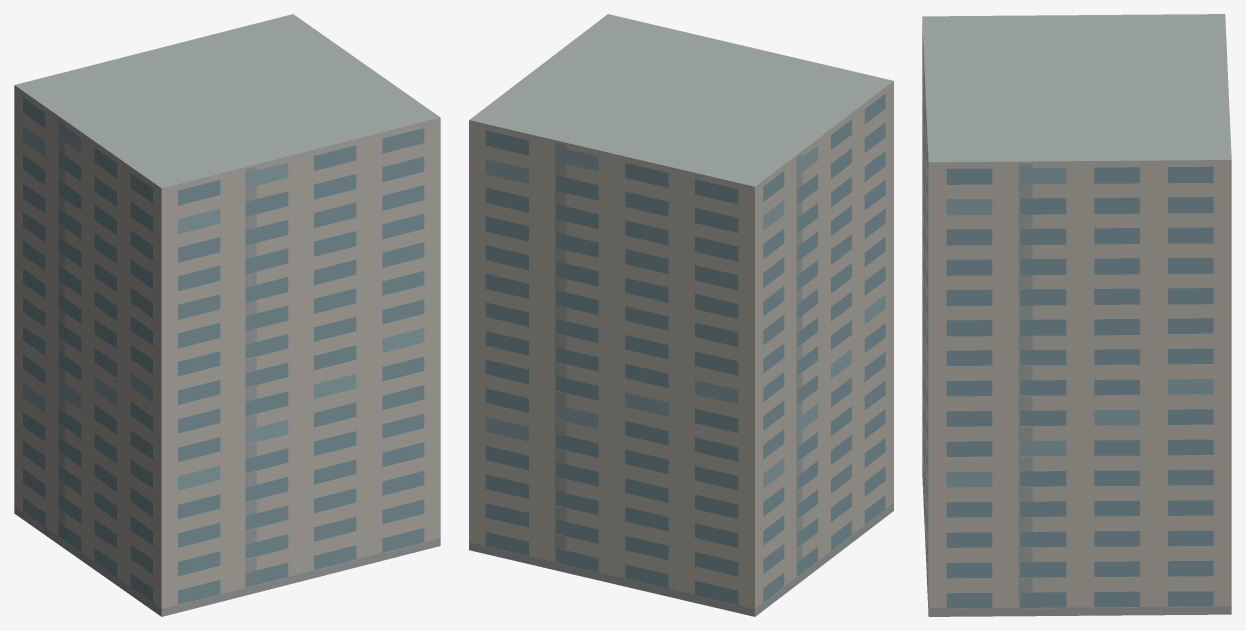
Rendered from residential-e9e4b3fd-786f-4c5e-b053-a218ca69d9ba.glb.
3 views of the same model, side by side, from view 1: azimuth 30°, elevation 25°; view 2: azimuth 150°, elevation 25°; view 3: azimuth 270°, elevation 25° (orthographic). The views are drawn at different scales.
Visible parts, largest first — view 1: residential-e9e4b3fd-786f-4c5e-b053-a218ca69d9ba.tmp; view 2: residential-e9e4b3fd-786f-4c5e-b053-a218ca69d9ba.tmp; view 3: residential-e9e4b3fd-786f-4c5e-b053-a218ca69d9ba.tmp.
Boxes of the visible parts, box(x1,y1,x2,y2) form: residential-e9e4b3fd-786f-4c5e-b053-a218ca69d9ba.tmp: box(14, 14, 440, 616); residential-e9e4b3fd-786f-4c5e-b053-a218ca69d9ba.tmp: box(469, 14, 893, 616); residential-e9e4b3fd-786f-4c5e-b053-a218ca69d9ba.tmp: box(922, 14, 1231, 616).
Size of the model in its own units: 30.08 by 43 by 26.54.
